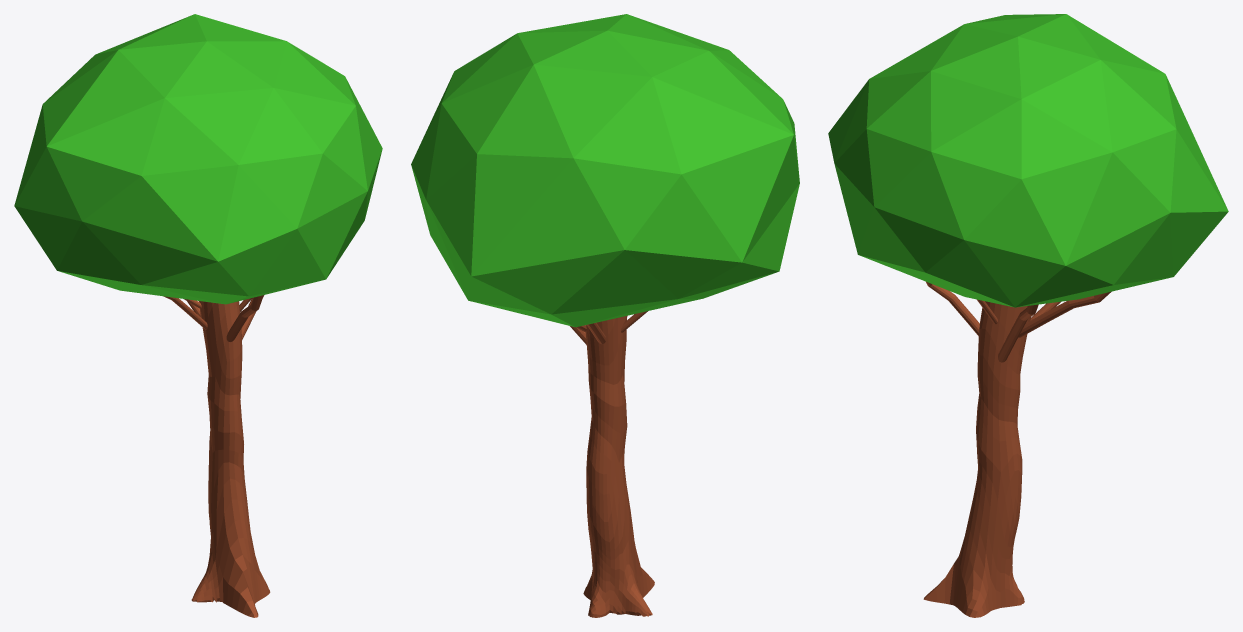
The model's file is Baum_5.fbx.
The picture shows the model from 3 angles, left to right: view 1: azimuth 30°, elevation 25°; view 2: azimuth 150°, elevation 25°; view 3: azimuth 270°, elevation 25°; orthographic projection. The views are drawn at different scales.
Visible parts, largest first — view 1: Icosphere.001, Retopo_Cylinder.009; view 2: Icosphere.001, Retopo_Cylinder.009; view 3: Icosphere.001, Retopo_Cylinder.009.
Boxes of the visible parts, bbox=[...] form: Icosphere.001: bbox=[14, 14, 382, 304]; Retopo_Cylinder.009: bbox=[163, 295, 270, 617]; Icosphere.001: bbox=[411, 14, 799, 327]; Retopo_Cylinder.009: bbox=[570, 311, 654, 617]; Icosphere.001: bbox=[828, 14, 1228, 307]; Retopo_Cylinder.009: bbox=[923, 282, 1111, 617].
Bounding box in the file's own units: 365 × 583 × 378.
